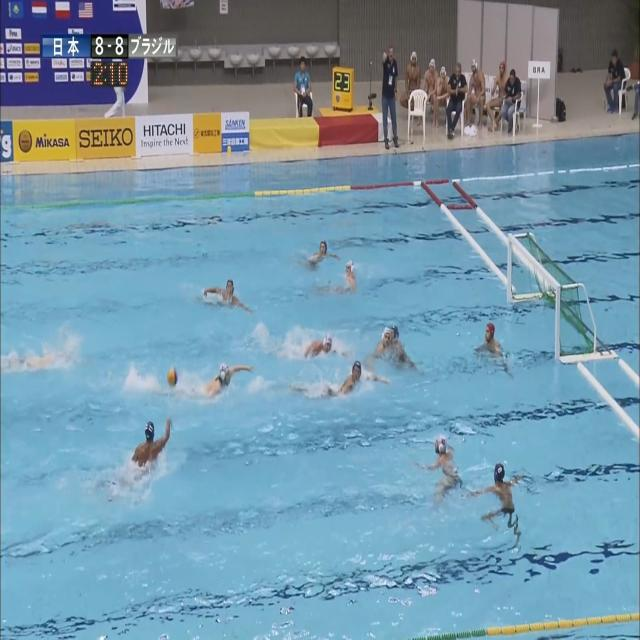ball: (168, 368, 177, 385)
